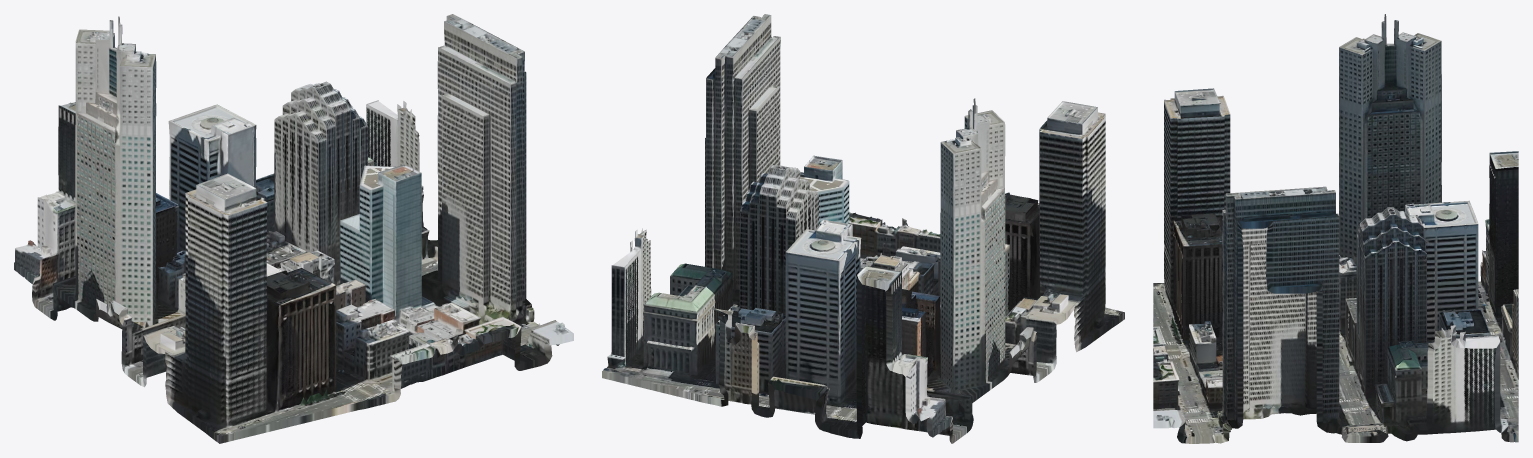
The model's file is z17-20971-50653-h0-yup-uvflip-v3-world.glb.
3 views of the same model, side by side, from view 1: azimuth 30°, elevation 25°; view 2: azimuth 150°, elevation 25°; view 3: azimuth 270°, elevation 25° (orthographic). The views are drawn at different scales.
Bounding box in the file's own units: 241 × 212 × 243.
1 material, 1 textured.
